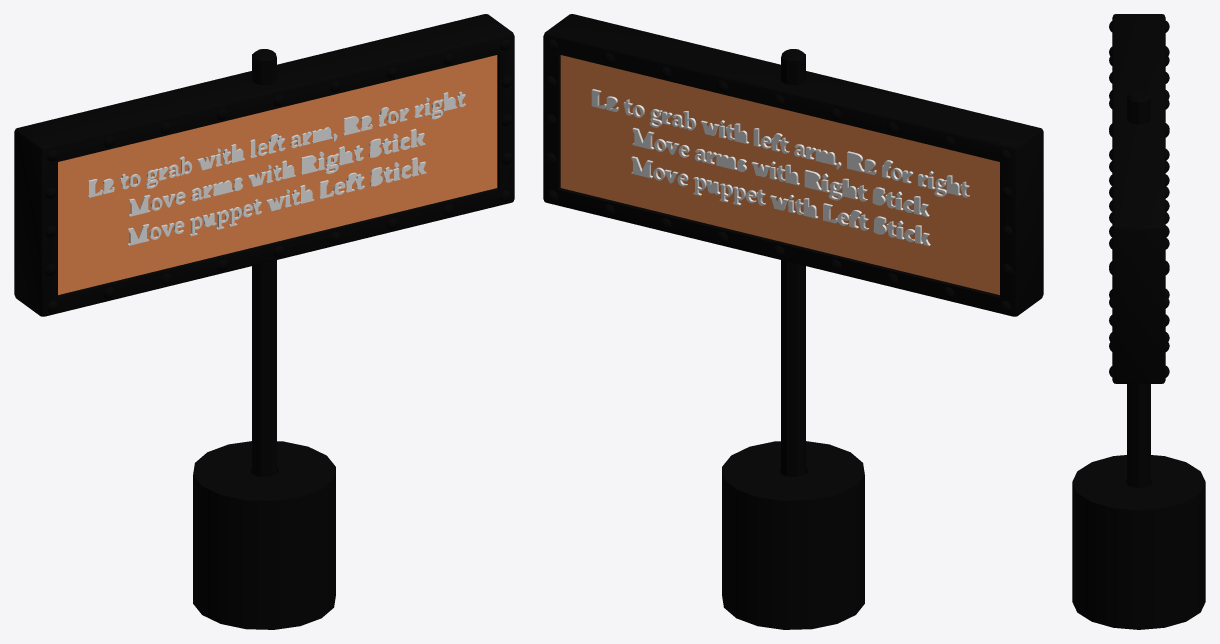
The picture shows the model from 3 angles, left to right: view 1: azimuth 30°, elevation 25°; view 2: azimuth 150°, elevation 25°; view 3: azimuth 270°, elevation 25°; orthographic projection. The views are drawn at different scales.
Parts seen in each view (by area): view 1: inner, outer, base, text, rod, bullets; view 2: inner, outer, base, text, rod, bullets; view 3: base, outer, rod, bullets.
Boxes of the visible parts, x1,y1,x2,y2 form: inner: (58, 55, 497, 294); outer: (14, 14, 514, 316); base: (193, 441, 335, 629); text: (88, 91, 465, 245); rod: (252, 49, 276, 476); bullets: (45, 39, 512, 312); inner: (560, 55, 999, 294); outer: (543, 14, 1043, 316); base: (722, 441, 864, 629); text: (591, 89, 969, 246); rod: (781, 49, 805, 476); bullets: (545, 39, 1012, 312); base: (1072, 455, 1205, 629); outer: (1112, 14, 1165, 383); rod: (1127, 91, 1150, 487); bullets: (1109, 21, 1169, 377).
Bounding box in the file's own units: 453 × 499 × 119.
